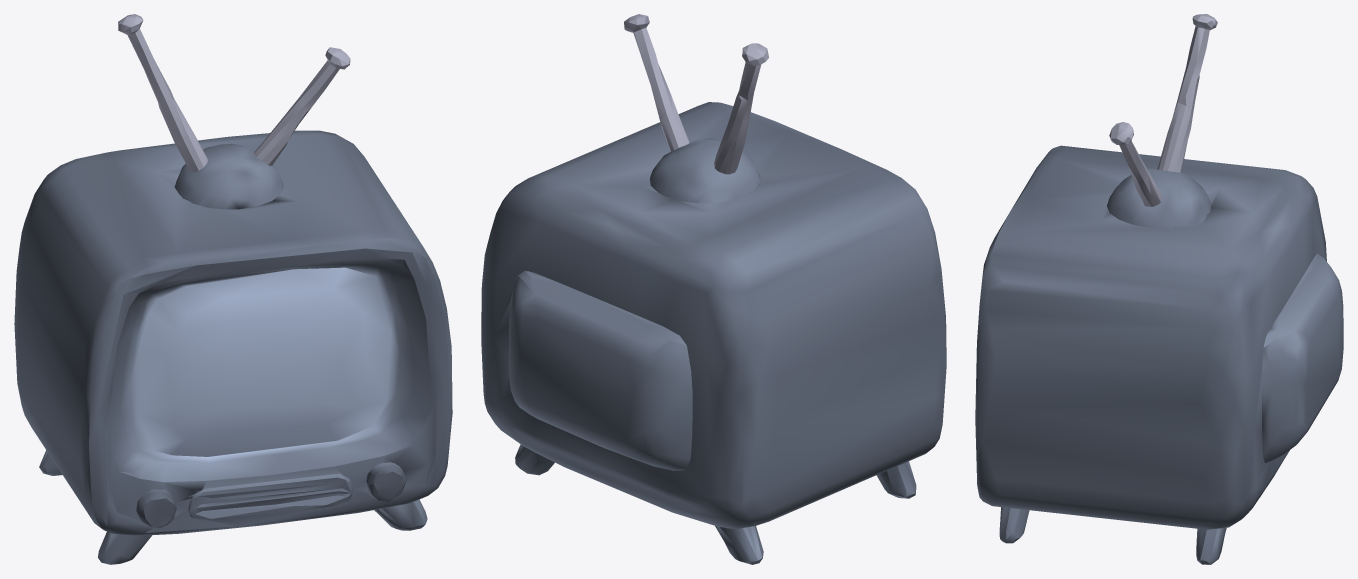
The model's file is Television01.fbx.
The picture shows the model from 3 angles, left to right: view 1: azimuth 30°, elevation 25°; view 2: azimuth 150°, elevation 25°; view 3: azimuth 270°, elevation 25°; orthographic projection. The views are drawn at different scales.
Visible parts, largest first — view 1: Antenna2; view 2: Antenna2; view 3: Antenna2.
Part boxes in pixels (x1=…): Antenna2: x1=14, y1=14, x2=452, y2=564; Antenna2: x1=481, y1=14, x2=946, y2=564; Antenna2: x1=975, y1=14, x2=1343, y2=564.
Bounding box in the file's own units: 82.98 × 101 × 75.32.
